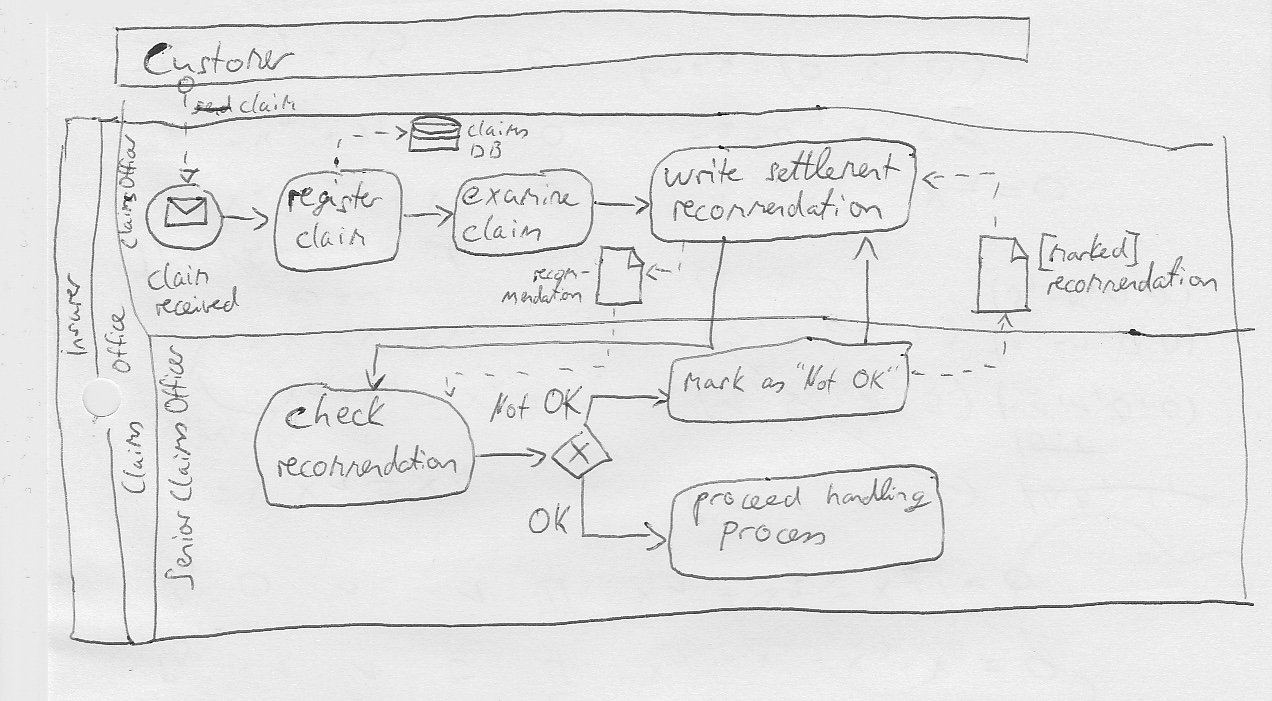Claims: (159, 419, 197, 508), (119, 419, 149, 498), (110, 189, 142, 254)
Customer: (138, 39, 302, 79)
DB: (462, 138, 507, 165)
Mark: (675, 360, 750, 401)
Not: (788, 357, 843, 401), (481, 386, 536, 430)
OK: (519, 497, 578, 542), (535, 379, 589, 426), (845, 361, 902, 398)
Officer: (149, 338, 195, 421), (110, 129, 141, 193)
Senior: (157, 506, 201, 598)
[marked]: (1030, 223, 1145, 280)
as: (753, 371, 791, 400)
check: (275, 386, 394, 437)
claim: (454, 210, 547, 248), (286, 216, 374, 255), (139, 256, 214, 298), (459, 115, 534, 145), (236, 90, 302, 117)
examine: (453, 177, 584, 214)
handling: (818, 470, 938, 519)
insurer: (60, 269, 92, 363)
mendation: (496, 278, 587, 309)
office: (103, 305, 133, 378)
proceed: (683, 479, 809, 535)
process: (709, 515, 833, 562)
received: (145, 279, 247, 326)
recom-: (530, 261, 594, 282)
recommendation: (662, 182, 892, 229), (1036, 251, 1225, 305), (268, 438, 464, 488)
register: (279, 174, 390, 223)
settlement: (756, 142, 909, 188)
write: (653, 152, 751, 196)
